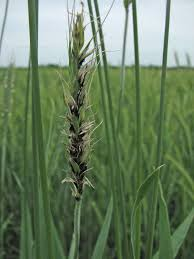Wheat Loose Smut: (60, 63, 97, 188)
